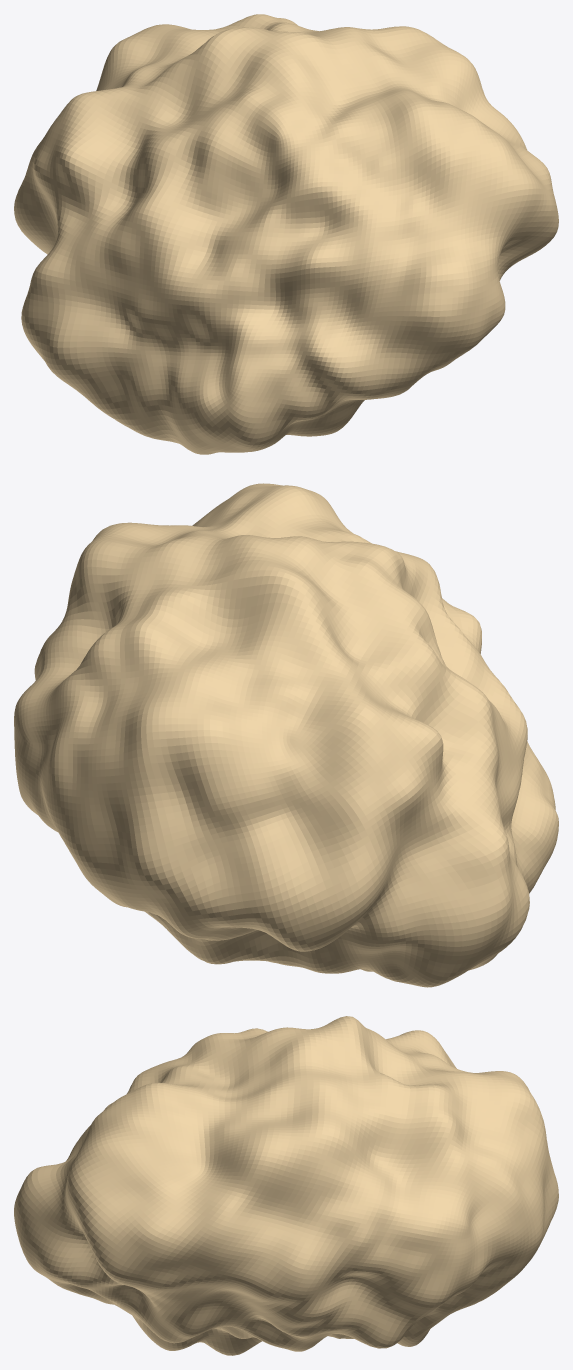
Rendered from Asteroid.fbx.
3 views of the same model, one above another, from view 1: azimuth 30°, elevation 25°; view 2: azimuth 150°, elevation 25°; view 3: azimuth 270°, elevation 25° (orthographic). The views are drawn at different scales.
Parts seen in each view (by area): view 1: Cube; view 2: Cube; view 3: Cube.
Part boxes in pixels (bbox=[...]): Cube: bbox=[14, 14, 558, 454]; Cube: bbox=[14, 483, 558, 987]; Cube: bbox=[14, 1016, 558, 1355].
Size of the model in its own units: 2.63 by 2.11 by 3.01.
